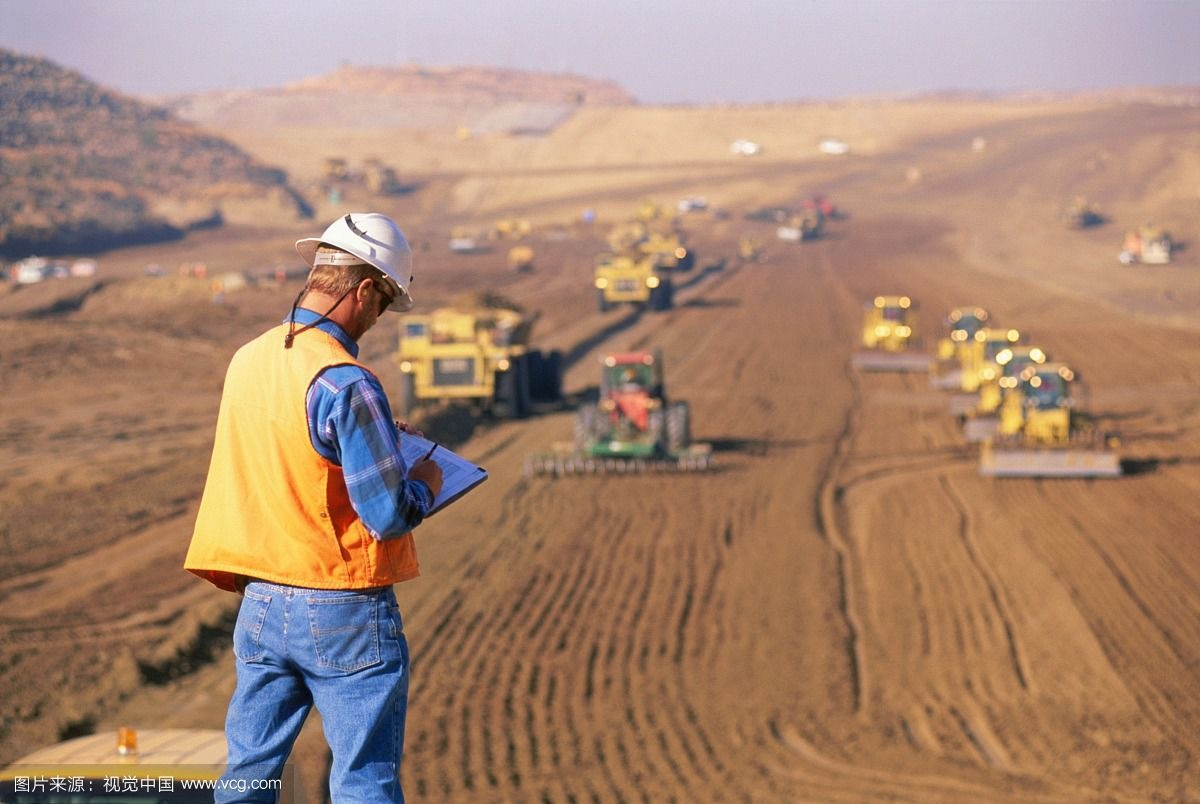white: (285, 194, 421, 343)
